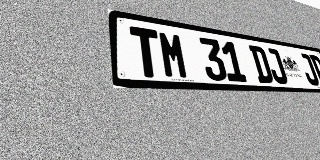1: (219, 40, 247, 82)
3: (199, 37, 228, 81)
D: (248, 45, 274, 83)
J: (264, 47, 289, 84), (298, 53, 320, 86)
M: (157, 30, 190, 79)
P: (309, 55, 320, 86)
T: (129, 26, 163, 78)
